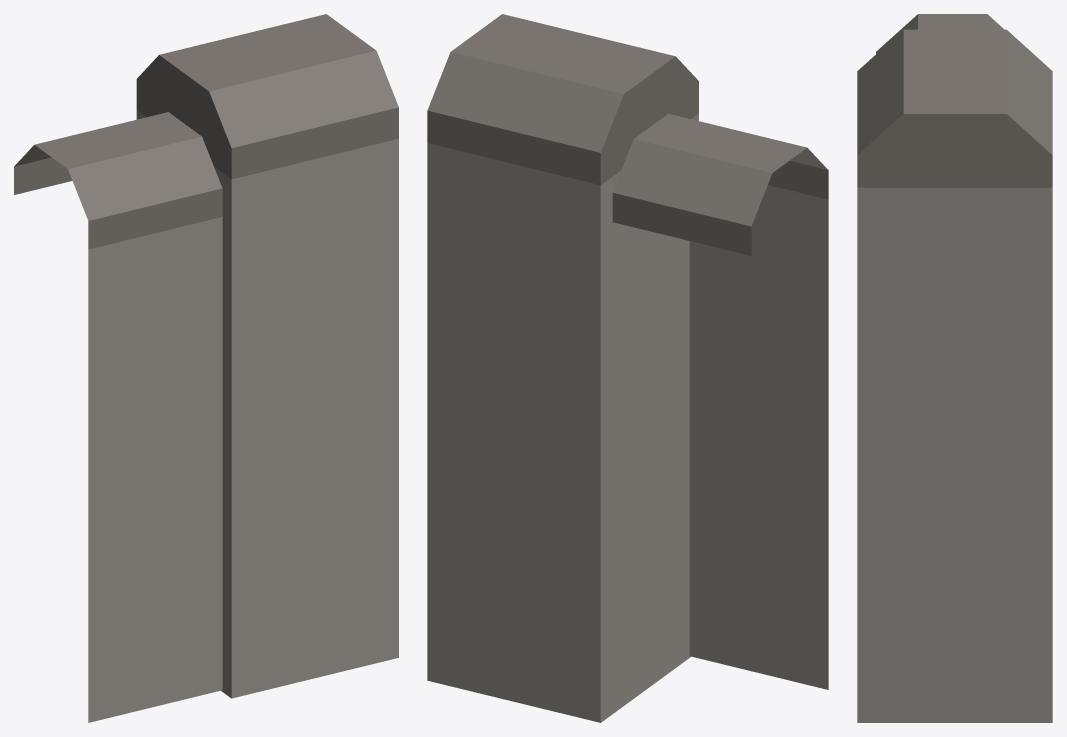
The model's file is Base Wall Top 01 End.FBX.
The picture shows the model from 3 angles, left to right: view 1: azimuth 30°, elevation 25°; view 2: azimuth 150°, elevation 25°; view 3: azimuth 270°, elevation 25°; orthographic projection. The views are drawn at different scales.
Parts seen in each view (by area): view 1: Base Wall Top 01 End; view 2: Base Wall Top 01 End; view 3: Base Wall Top 01 End.
Part boxes in pixels (left/top/right/bottom): Base Wall Top 01 End: left=14, top=14, right=398, bottom=722; Base Wall Top 01 End: left=427, top=14, right=828, bottom=722; Base Wall Top 01 End: left=857, top=14, right=1052, bottom=722.
Bounding box in the file's own units: 69.48 × 130 × 37.81.
1 material, 1 textured.
